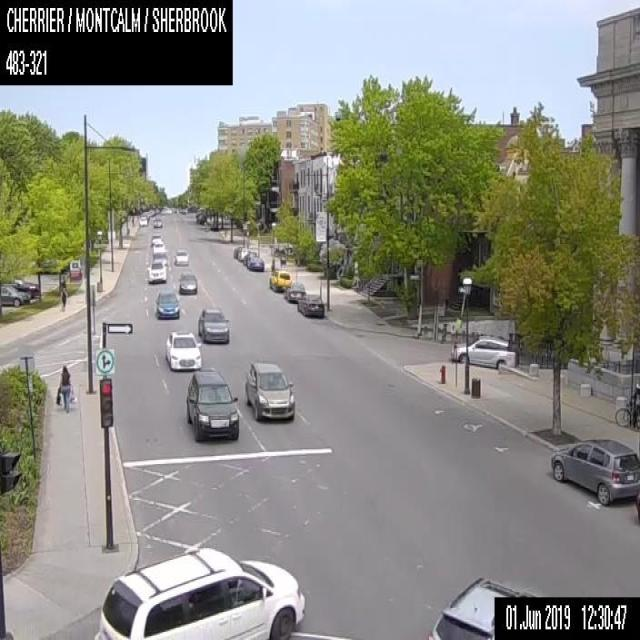pedestrian: (55, 364, 76, 413), (60, 274, 68, 296), (60, 286, 66, 309)
vehicle: (93, 544, 304, 639), (549, 436, 639, 517), (426, 574, 538, 638), (185, 367, 239, 440), (243, 360, 294, 421), (449, 336, 513, 371), (165, 331, 201, 369), (198, 308, 229, 343), (156, 289, 180, 319), (296, 294, 324, 318), (146, 258, 168, 283), (268, 269, 291, 291), (283, 281, 305, 303), (178, 270, 197, 294), (247, 255, 264, 271), (150, 251, 167, 266), (174, 248, 188, 265), (243, 250, 256, 264), (152, 240, 165, 254), (150, 231, 162, 246), (237, 246, 248, 260), (232, 246, 242, 258), (152, 216, 162, 226), (137, 216, 147, 225)
